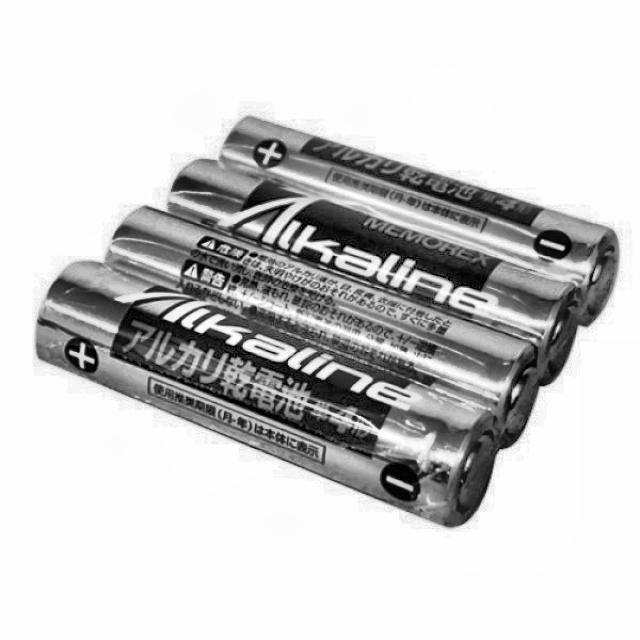drycell: (35, 260, 502, 532), (103, 201, 546, 452), (168, 155, 581, 383), (221, 111, 621, 322)
